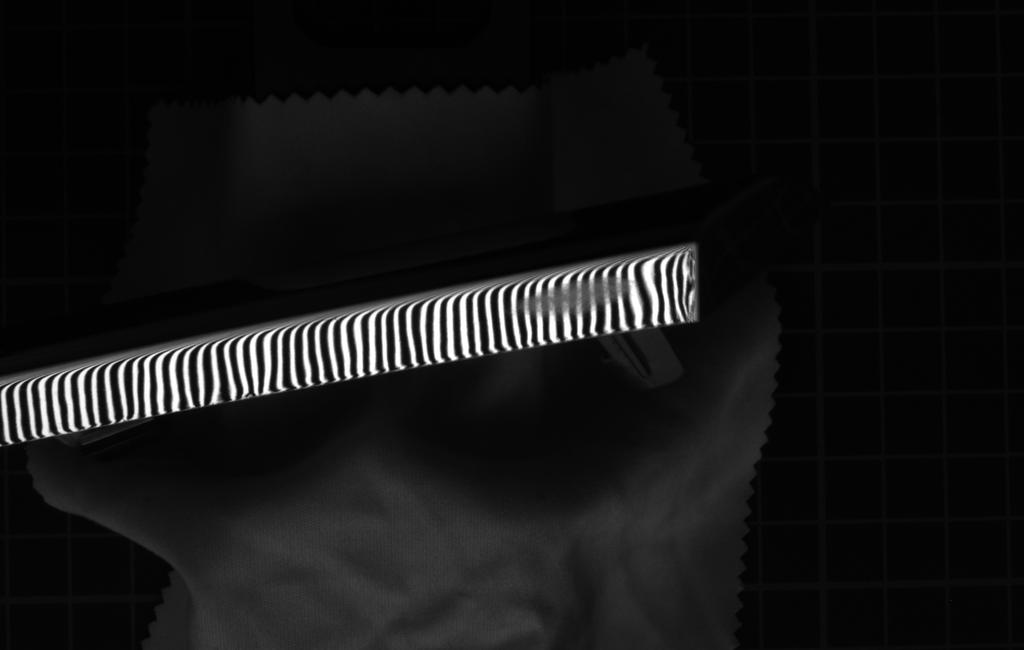Pitting: (505, 263, 646, 332)
